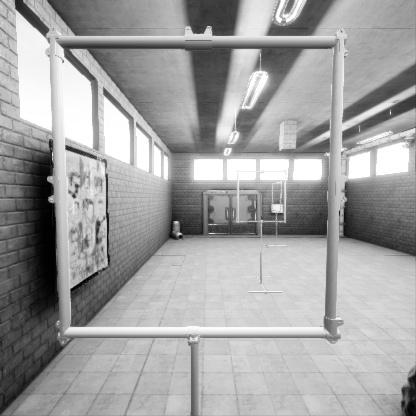gate: (71, 105, 345, 371), (238, 196, 289, 246), (272, 205, 281, 235)
